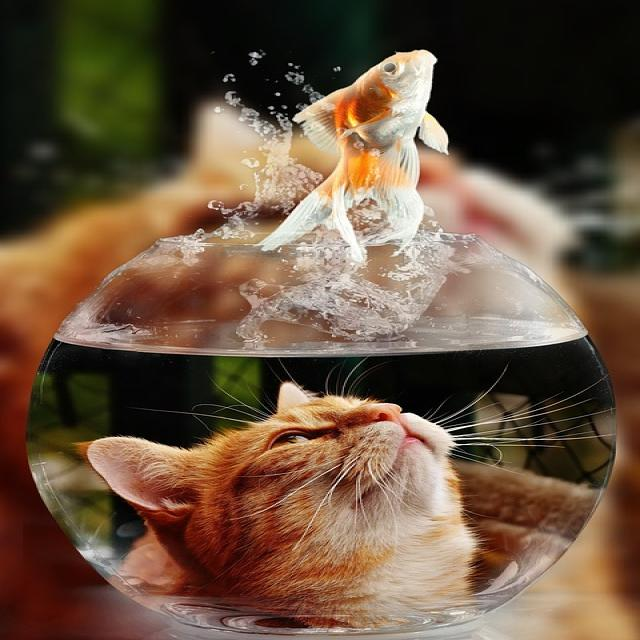cat: (87, 381, 481, 605)
